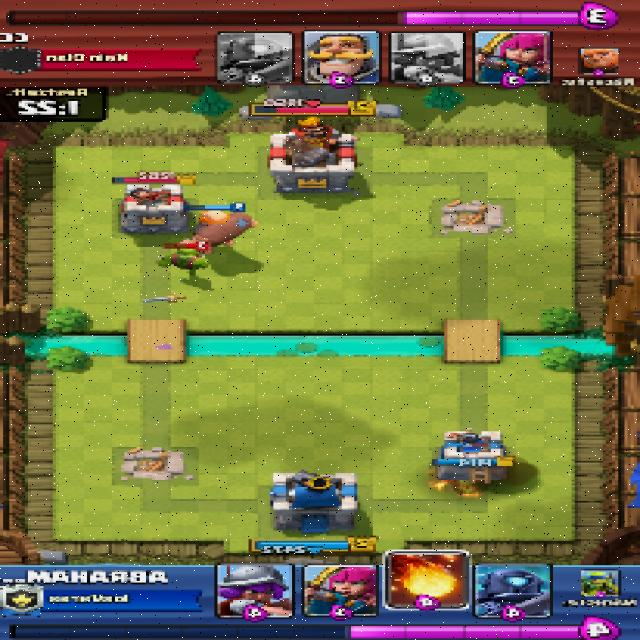Player-Giant: (183, 209, 264, 251)
Player-GoblinCage: (155, 250, 210, 272)
